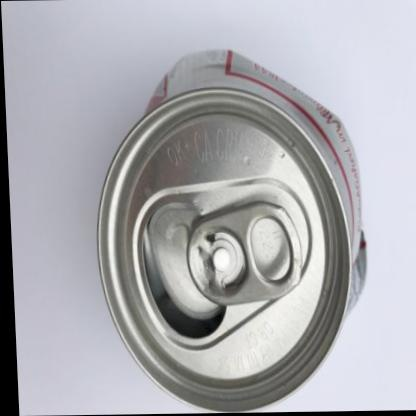trash: (98, 50, 365, 410)
